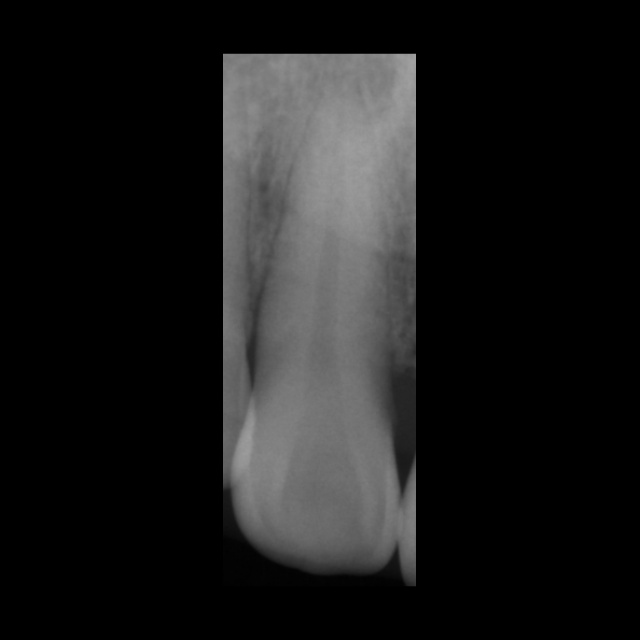tooth: (228, 70, 399, 578)
